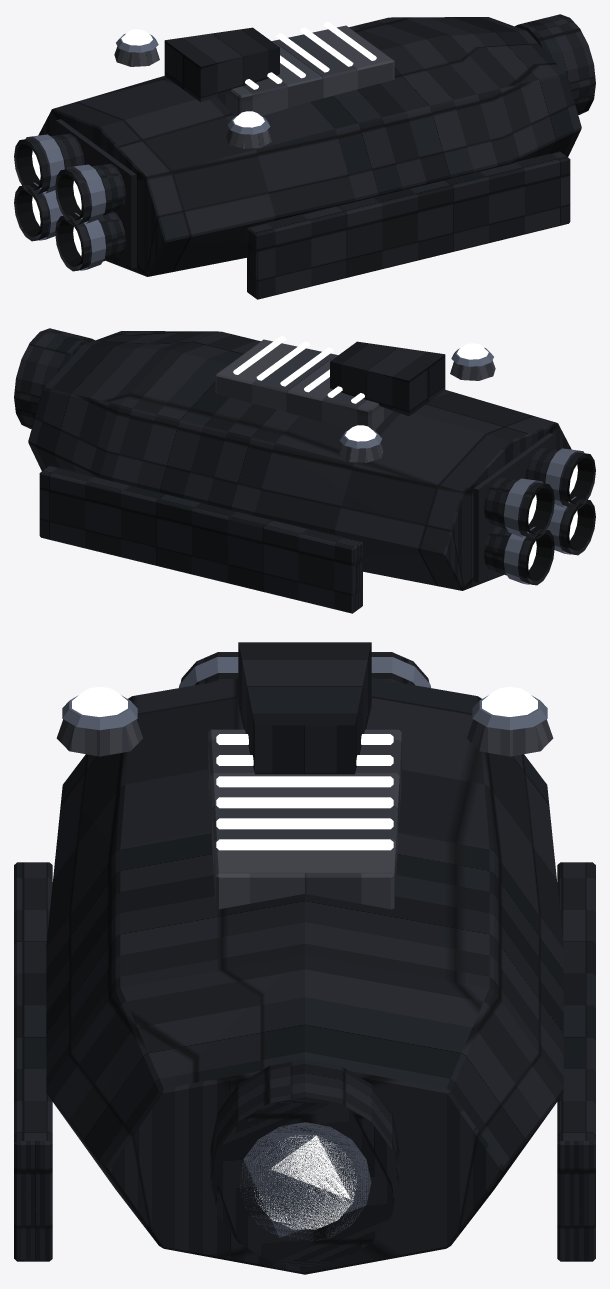
The model's file is siege_ship.glb.
3 views of the same model, one above another, from view 1: azimuth 30°, elevation 25°; view 2: azimuth 150°, elevation 25°; view 3: azimuth 270°, elevation 25° (orthographic). The views are drawn at different scales.
Visible parts, largest first — view 1: hull_body, engine_block, sensor_tower, weapon_mounts, shield_domes; view 2: hull_body, engine_block, sensor_tower, weapon_mounts, shield_domes; view 3: hull_body, weapon_mounts, sensor_tower, shield_domes, engine_block.
Part boxes in pixels (<box>): hull_body: <box>38,17,581,299</box>; engine_block: <box>14,119,136,271</box>; sensor_tower: <box>164,27,279,102</box>; weapon_mounts: <box>515,14,595,114</box>; shield_domes: <box>114,29,271,148</box>; hull_body: <box>28,331,571,613</box>; engine_block: <box>473,433,595,585</box>; sensor_tower: <box>330,341,445,416</box>; weapon_mounts: <box>14,328,94,428</box>; shield_domes: <box>338,343,495,462</box>; hull_body: <box>14,678,595,1274</box>; weapon_mounts: <box>210,1059,399,1267</box>; sensor_tower: <box>238,642,371,774</box>; shield_domes: <box>56,687,553,756</box>; engine_block: <box>179,652,430,687</box>.
Size of the model in its own units: 58 by 20.55 by 30.6.
Materials: 1 (1 with a texture image).
